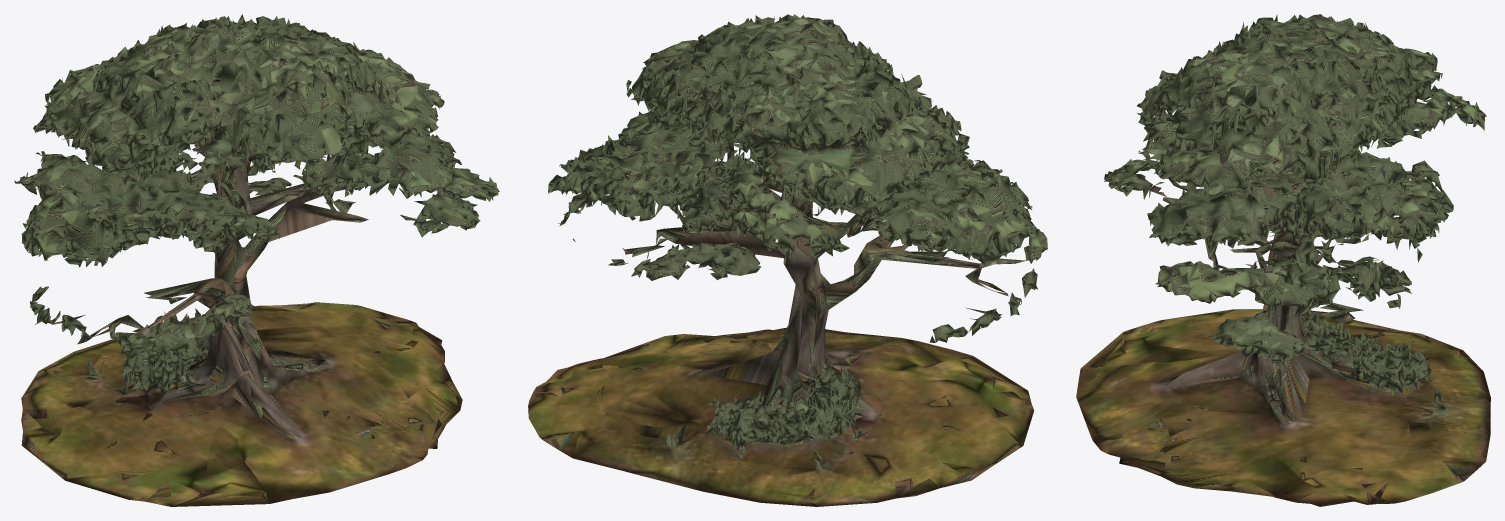
The model's file is lib_tp_thongcn.near.glb.
The picture shows the model from 3 angles, left to right: view 1: azimuth 30°, elevation 25°; view 2: azimuth 150°, elevation 25°; view 3: azimuth 270°, elevation 25°; orthographic projection.
Size of the model in its own units: 1.95 by 1.56 by 1.59.
Materials: 1 (1 with a texture image).
